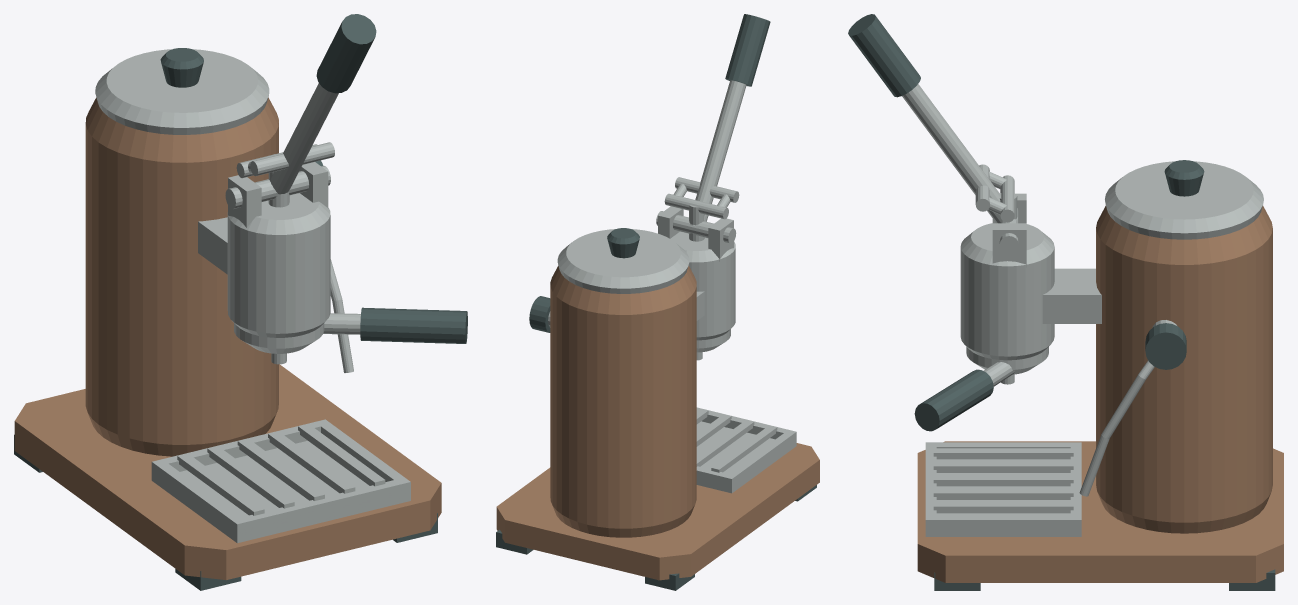
3 renders of one model, left to right at view 1: azimuth 30°, elevation 25°; view 2: azimuth 150°, elevation 25°; view 3: azimuth 270°, elevation 25°, orthographic. The views are drawn at different scales.
Parts seen in each view (by area): view 1: WholeUprightBoilerExterior, WholeLowCoffeeMachineBase, WholeShallowCupTray, WholeExposedVerticalGroupCylinder, WholeRaisedBoilerTopCap, WholeFixedFilterGrip, WholeRaisedLeverEndGrip, WholeRaisedLeverStem, WholeCupTrayBridgeBar2, WholeCupTrayBridgeBar0, WholeCupTrayBridgeBar1, WholeCupTrayBridgeBar3 (+10 smaller); view 2: WholeUprightBoilerExterior, WholeLowCoffeeMachineBase, WholeRaisedBoilerTopCap, WholeShallowCupTray, WholeExposedVerticalGroupCylinder, WholeRaisedLeverStem, WholeRaisedLeverEndGrip, WholeCupTrayBridgeBar0, WholeTopCapGrip, WholeCupTrayBridgeBar1, WholePistonLinkCrossPin, WholeLeverCrossPivot (+6 smaller); view 3: WholeUprightBoilerExterior, WholeLowCoffeeMachineBase, WholeExposedVerticalGroupCylinder, WholeRaisedBoilerTopCap, WholeShallowCupTray, WholeFrontGroupSupport, WholeRaisedLeverEndGrip, WholeRaisedLeverStem, WholeFixedFilterGrip, WholeCupTrayBridgeBar0, WholeCupTrayBridgeBar1, WholeCupTrayBridgeBar3 (+8 smaller).
Boxes of the visible parts, bbox=[...] form: WholeUprightBoilerExterior: bbox=[85, 97, 278, 456]; WholeLowCoffeeMachineBase: bbox=[14, 364, 441, 580]; WholeShallowCupTray: bbox=[151, 419, 410, 543]; WholeExposedVerticalGroupCylinder: bbox=[227, 193, 330, 337]; WholeRaisedBoilerTopCap: bbox=[95, 49, 269, 134]; WholeFixedFilterGrip: bbox=[360, 307, 467, 343]; WholeRaisedLeverEndGrip: bbox=[316, 14, 376, 93]; WholeRaisedLeverStem: bbox=[270, 83, 338, 194]; WholeCupTrayBridgeBar2: bbox=[237, 438, 324, 500]; WholeCupTrayBridgeBar0: bbox=[177, 453, 264, 515]; WholeCupTrayBridgeBar1: bbox=[207, 446, 294, 508]; WholeCupTrayBridgeBar3: bbox=[268, 431, 355, 493]; WholeUprightBoilerExterior: bbox=[550, 266, 696, 537]; WholeLowCoffeeMachineBase: bbox=[496, 443, 819, 580]; WholeRaisedBoilerTopCap: bbox=[557, 229, 689, 293]; WholeShallowCupTray: bbox=[696, 407, 796, 493]; WholeExposedVerticalGroupCylinder: bbox=[670, 231, 735, 340]; WholeRaisedLeverStem: bbox=[690, 80, 746, 226]; WholeRaisedLeverEndGrip: bbox=[725, 14, 770, 86]; WholeCupTrayBridgeBar0: bbox=[711, 425, 777, 472]; WholeTopCapGrip: bbox=[607, 228, 639, 258]; WholeCupTrayBridgeBar1: bbox=[696, 419, 754, 466]; WholePistonLinkCrossPin: bbox=[664, 193, 728, 219]; WholeLeverCrossPivot: bbox=[656, 211, 736, 243]; WholeUprightBoilerExterior: bbox=[1096, 205, 1272, 533]; WholeLowCoffeeMachineBase: bbox=[917, 441, 1283, 582]; WholeExposedVerticalGroupCylinder: bbox=[960, 223, 1054, 360]; WholeRaisedBoilerTopCap: bbox=[1105, 161, 1263, 239]; WholeShallowCupTray: bbox=[925, 442, 1081, 536]; WholeFrontGroupSupport: bbox=[1042, 268, 1101, 323]; WholeRaisedLeverEndGrip: bbox=[848, 14, 920, 97]; WholeRaisedLeverStem: bbox=[902, 84, 1017, 223]; WholeFixedFilterGrip: bbox=[914, 369, 993, 431]; WholeCupTrayBridgeBar0: bbox=[933, 448, 1073, 459]; WholeCupTrayBridgeBar1: bbox=[933, 461, 1073, 472]; WholeCupTrayBridgeBar3: bbox=[933, 488, 1073, 499].
Bounding box in the file's own units: 0.3707 × 0.7227 × 0.5474.
